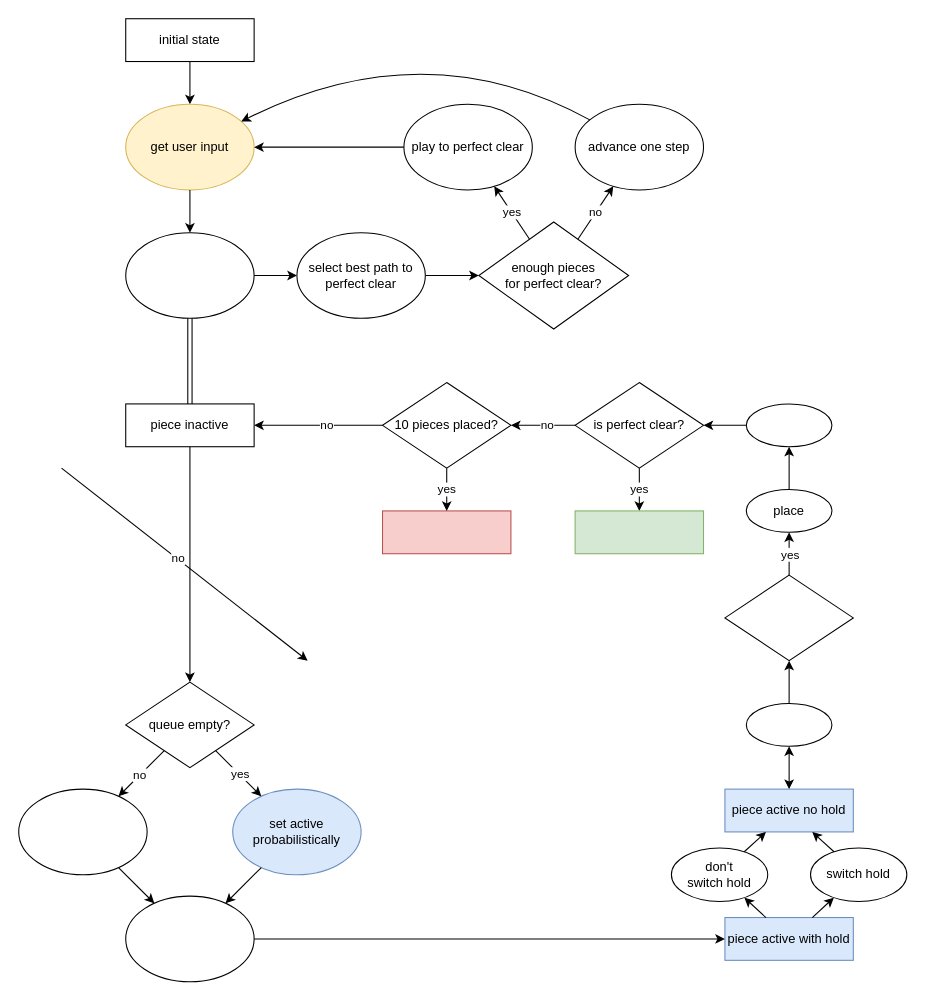
Some shapes in this 926 by 1000 pixel diagram are drawn without their labels. Here are the shapes that lost their labels. From the top down, the box of each, then its label:
(125, 232, 254, 318): get final states
(745, 403, 832, 447): clear lines
(381, 510, 511, 554): failed perfect clear
(574, 510, 704, 554): perfect clear
(724, 574, 853, 661): is piece placable?
(745, 702, 832, 746): move
(18, 788, 147, 875): consume queue set active
(125, 895, 254, 982): continue solving
